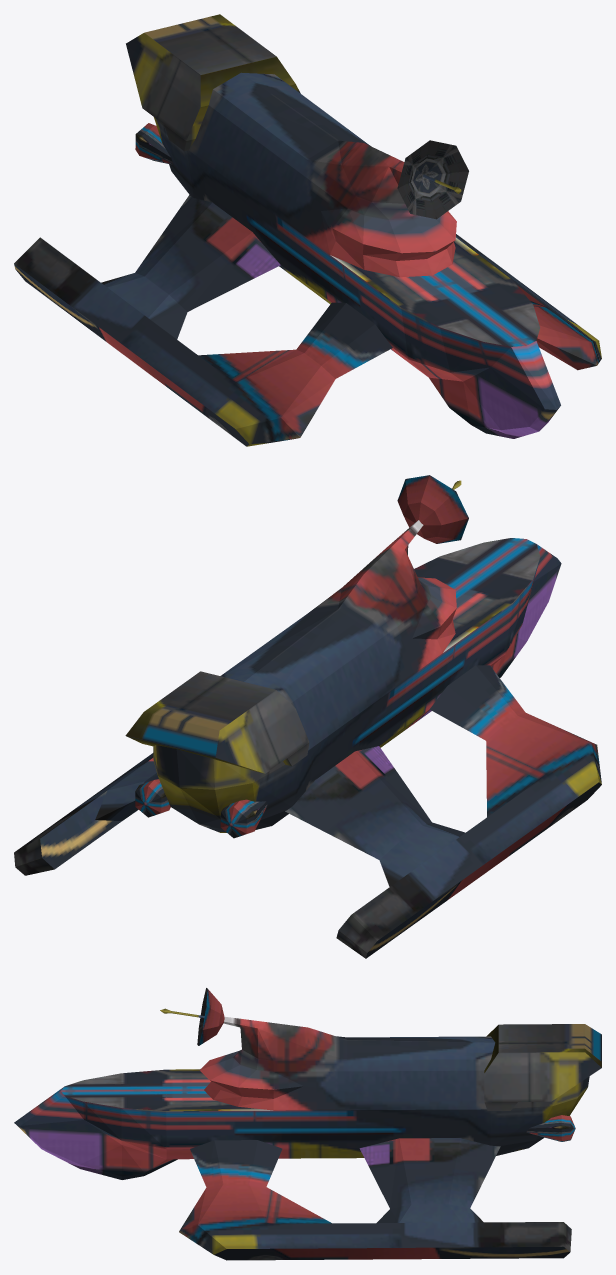
The model's file is Small Ship.fbx.
The picture shows the model from 3 angles, top to bottom: view 1: azimuth 30°, elevation 25°; view 2: azimuth 150°, elevation 25°; view 3: azimuth 270°, elevation 25°; orthographic projection. The views are drawn at different scales.
Visible parts, largest first — view 1: polygon90; view 2: polygon90; view 3: polygon90.
Part boxes in pixels (x1=…): polygon90: x1=14, y1=14, x2=601, y2=446; polygon90: x1=14, y1=475, x2=601, y2=958; polygon90: x1=14, y1=988, x2=601, y2=1260.
Bounding box in the file's own units: 1713 × 1234 × 3152.
1 material, 1 textured.
